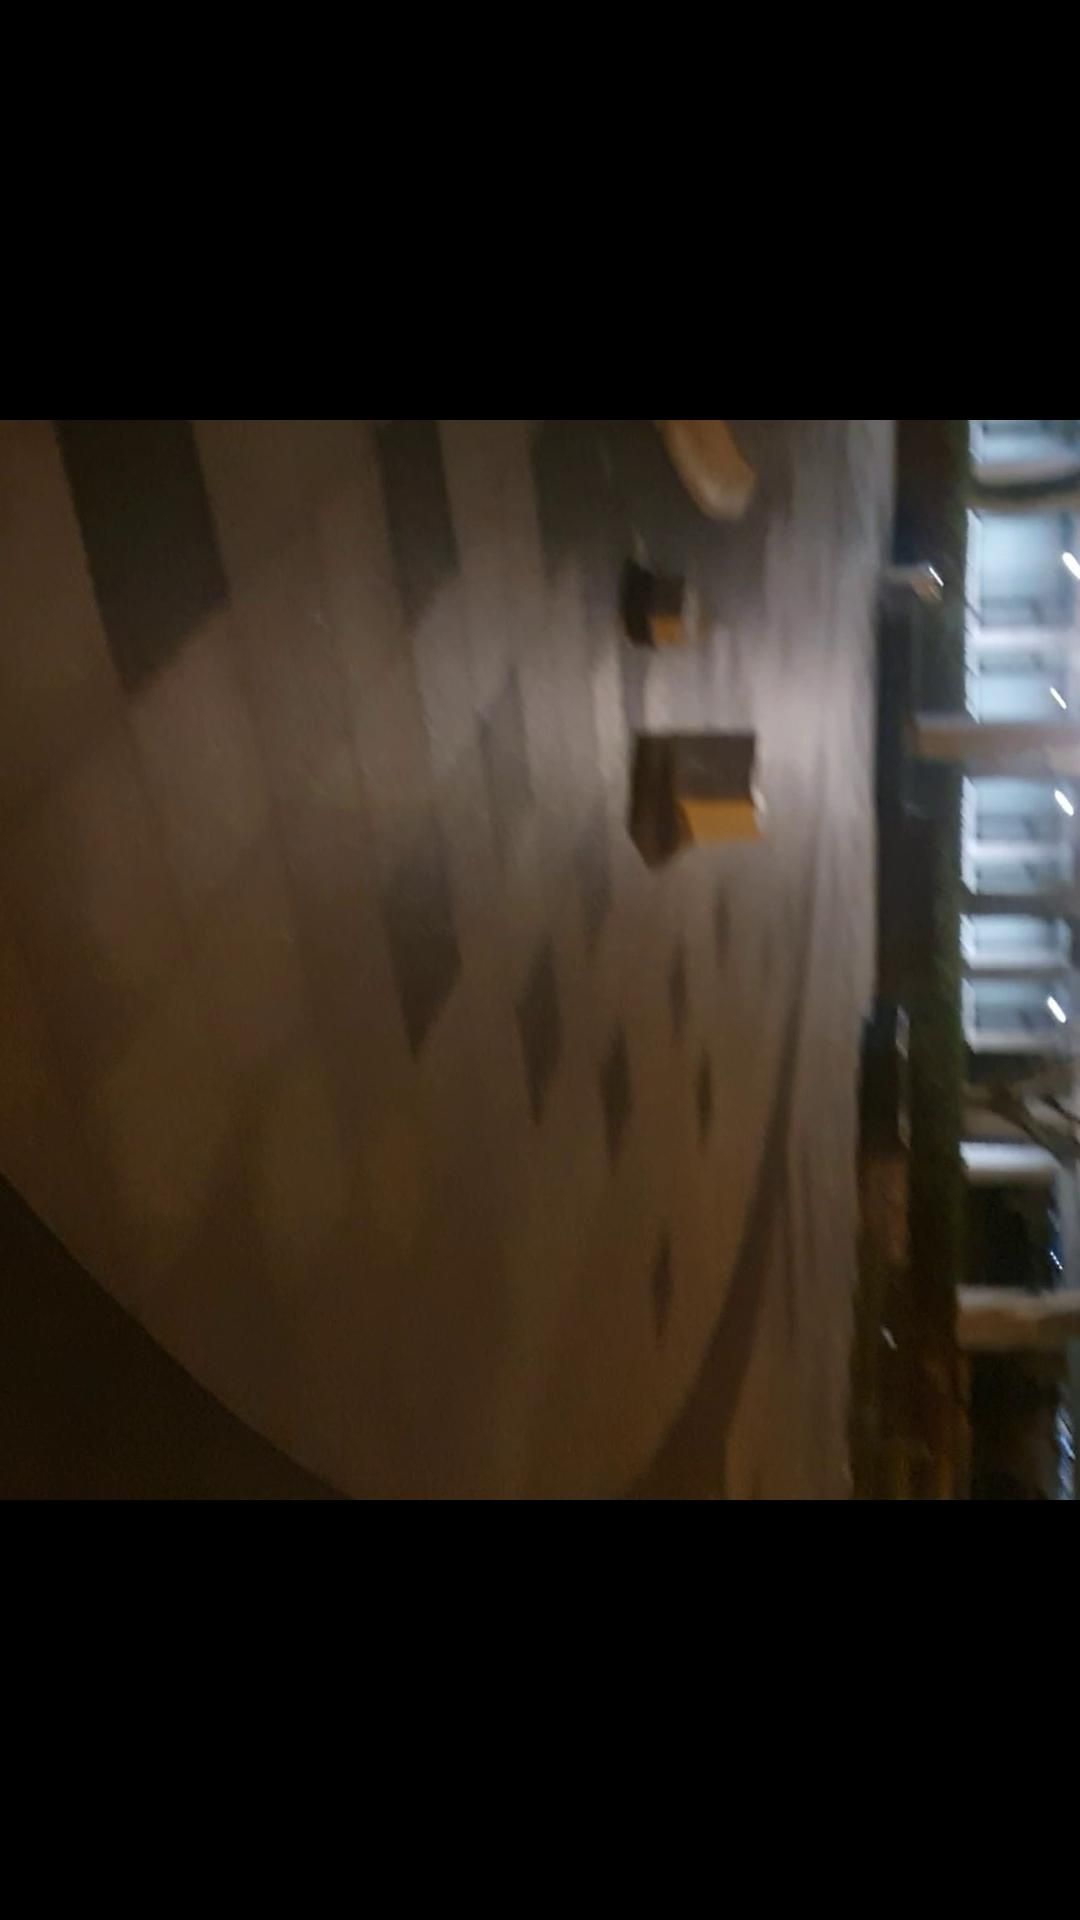Box: (647, 728, 781, 852), (636, 574, 695, 647)
